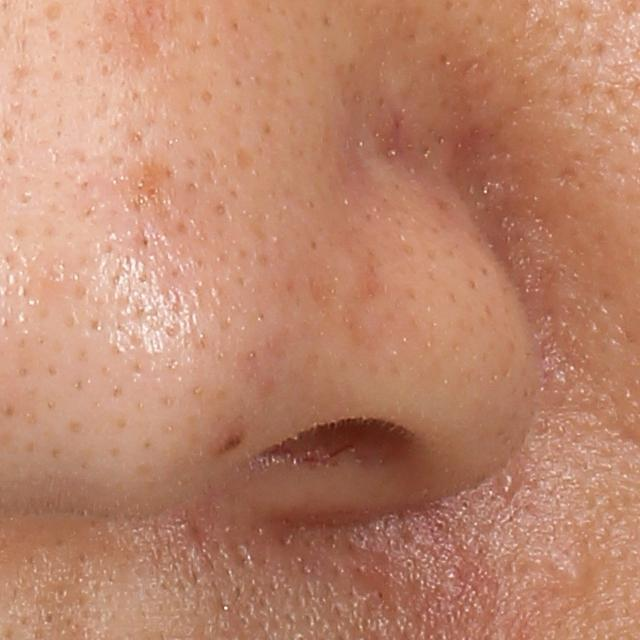comedo: (550, 551, 600, 596)
nevus: (214, 429, 234, 459)
